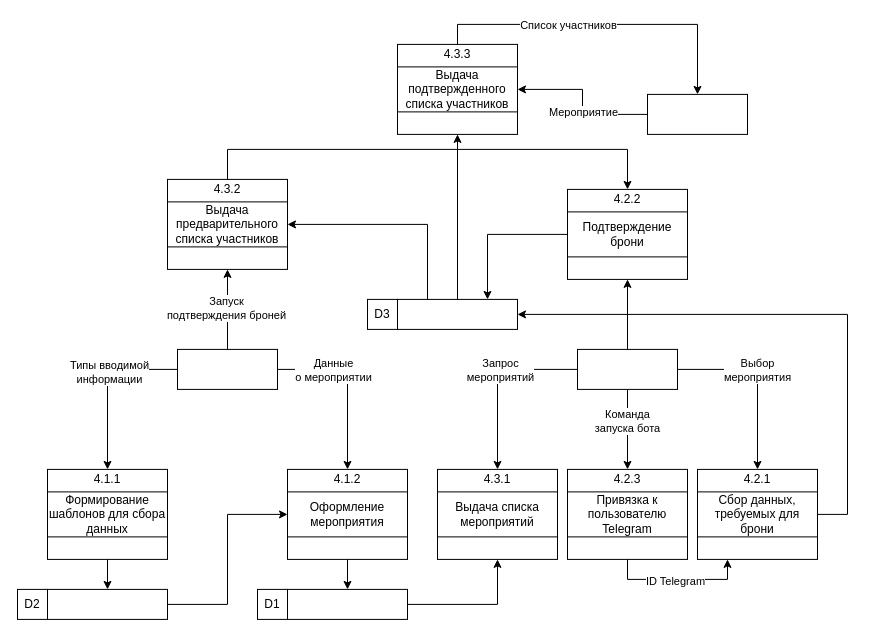
This 873x637 diagram has some shape labels left out. Each missing label, with the centre of its shape:
"1 Администратор" belongs at (227,368).
"2 Сотрудник" belongs at (627,368).
"3 Начальник" belongs at (697,113).
"Таблица броней" belongs at (457,313).
"Таблица мероприятий" belongs at (347,603).
"Таблица шаблонов" belongs at (107,603).
